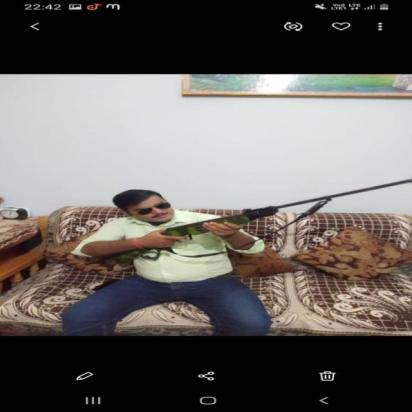Gun: (109, 178, 411, 266)
